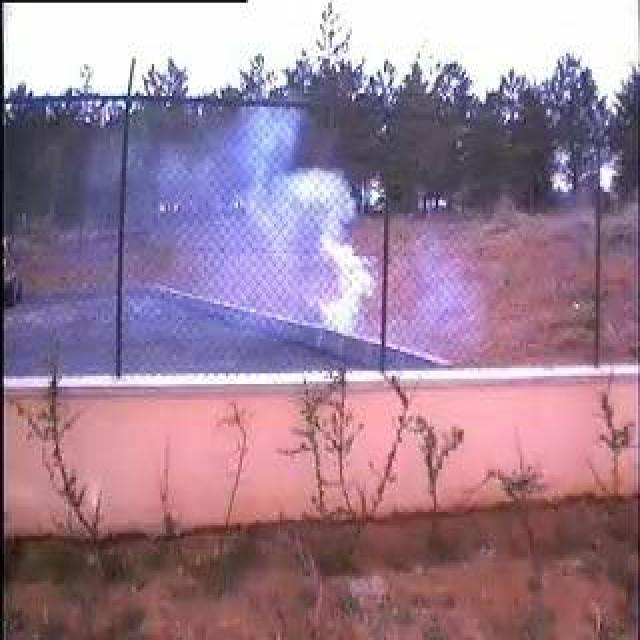Smoke: (123, 91, 383, 368)
